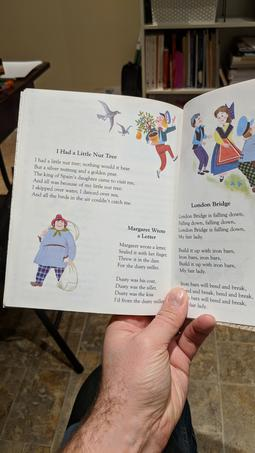text block: (173, 197, 251, 317), (27, 137, 142, 207), (111, 222, 172, 308)
